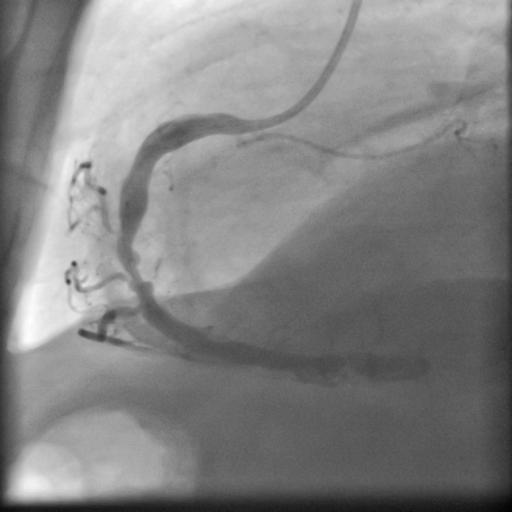Stenosis: (118, 247, 155, 295)
